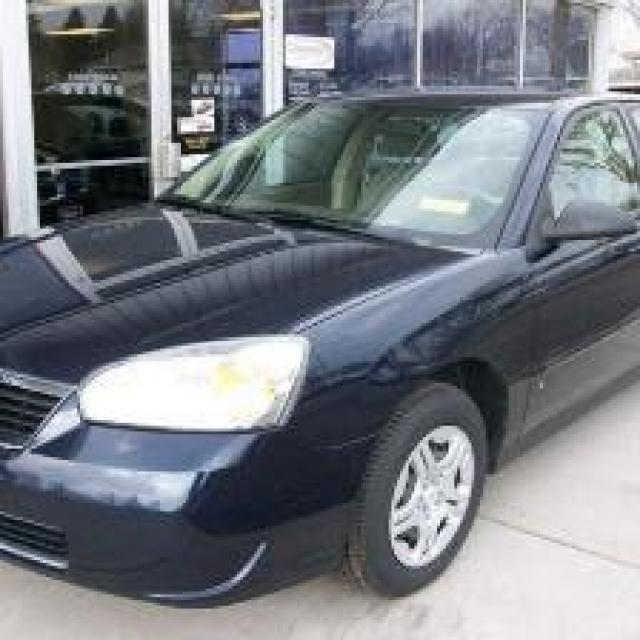damaged: (372, 294, 488, 386)
